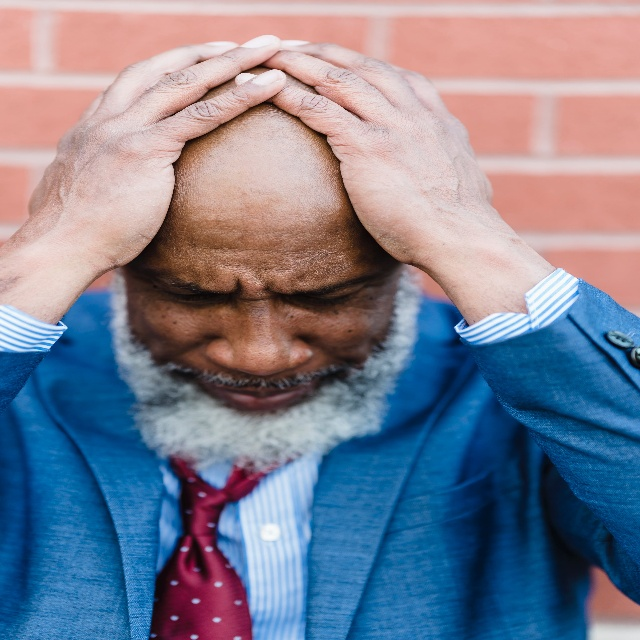Sin_guantes: (32, 32, 288, 286), (268, 39, 491, 270)
